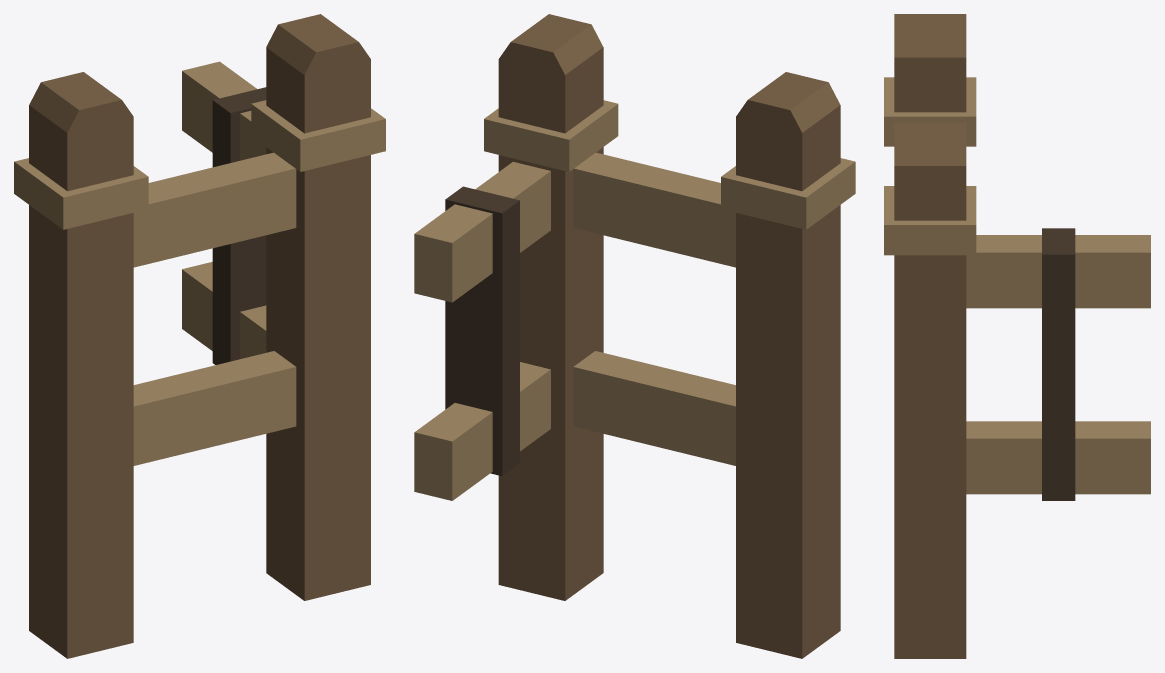
The model's file is TW_WOOD_CORNER_L90_B_LOD0.glb.
3 renders of one model, left to right at view 1: azimuth 30°, elevation 25°; view 2: azimuth 150°, elevation 25°; view 3: azimuth 270°, elevation 25°, orthographic. The views are drawn at different scales.
Parts seen in each view (by area): view 1: TW_WOOD_CORNER_L90_B_LOD0; view 2: TW_WOOD_CORNER_L90_B_LOD0; view 3: TW_WOOD_CORNER_L90_B_LOD0.
Boxes of the visible parts, box(x1,y1,x2,y2) form: TW_WOOD_CORNER_L90_B_LOD0: box(14, 14, 385, 658); TW_WOOD_CORNER_L90_B_LOD0: box(414, 14, 855, 658); TW_WOOD_CORNER_L90_B_LOD0: box(884, 14, 1150, 658).
Size of the model in its own units: 0.68 by 1.1 by 0.52.
Materials: 1 (1 with a texture image).
